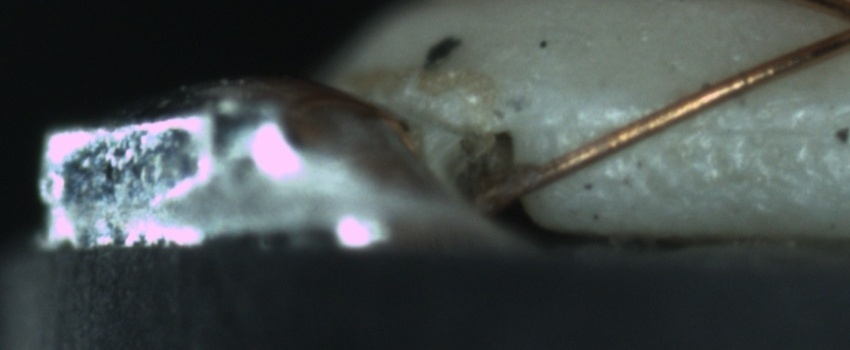CL: (828, 2, 850, 46)
DL: (570, 91, 837, 156)
